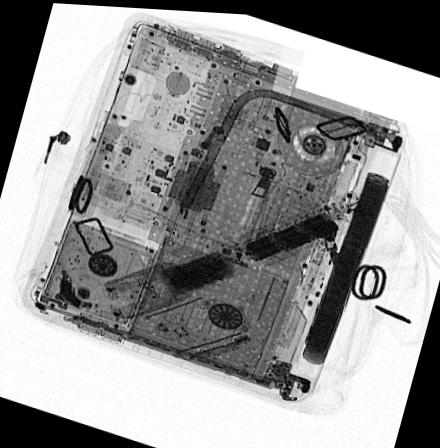Baton: (104, 186, 365, 318)
